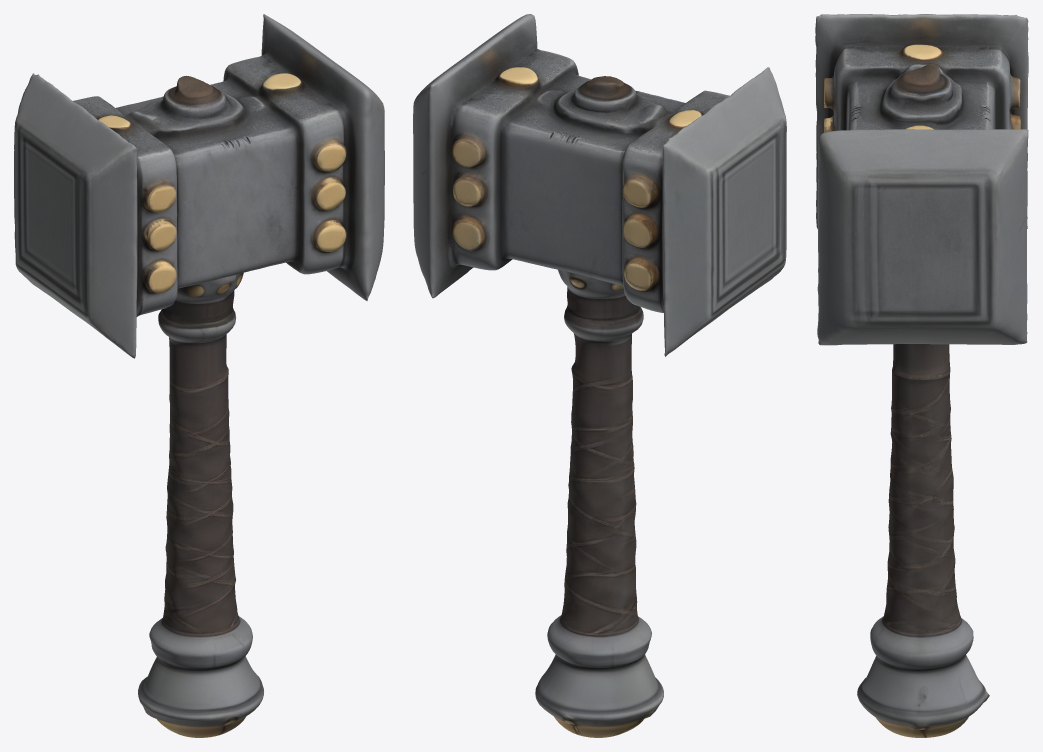
Rendered from anvil-hammer.glb.
3 renders of one model, left to right at view 1: azimuth 30°, elevation 25°; view 2: azimuth 150°, elevation 25°; view 3: azimuth 270°, elevation 25°, orthographic.
Bounding box in the file's own units: 0.9705 × 2 × 0.5867.
1 material, 1 textured.
